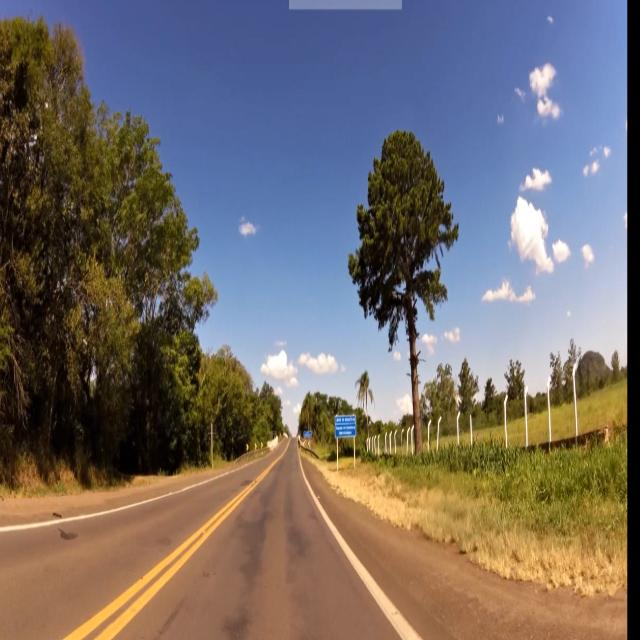LOC-6: (335, 415, 356, 438)
